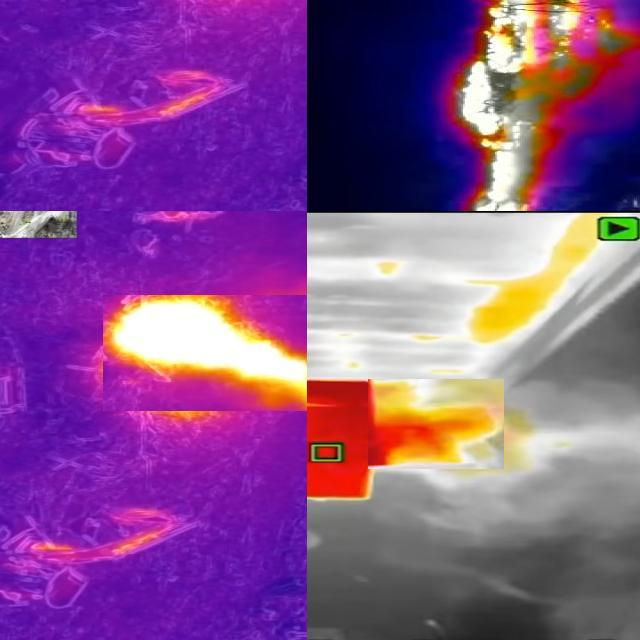fire: (452, 1, 629, 212), (104, 295, 308, 411), (459, 213, 603, 345), (369, 379, 505, 469)
